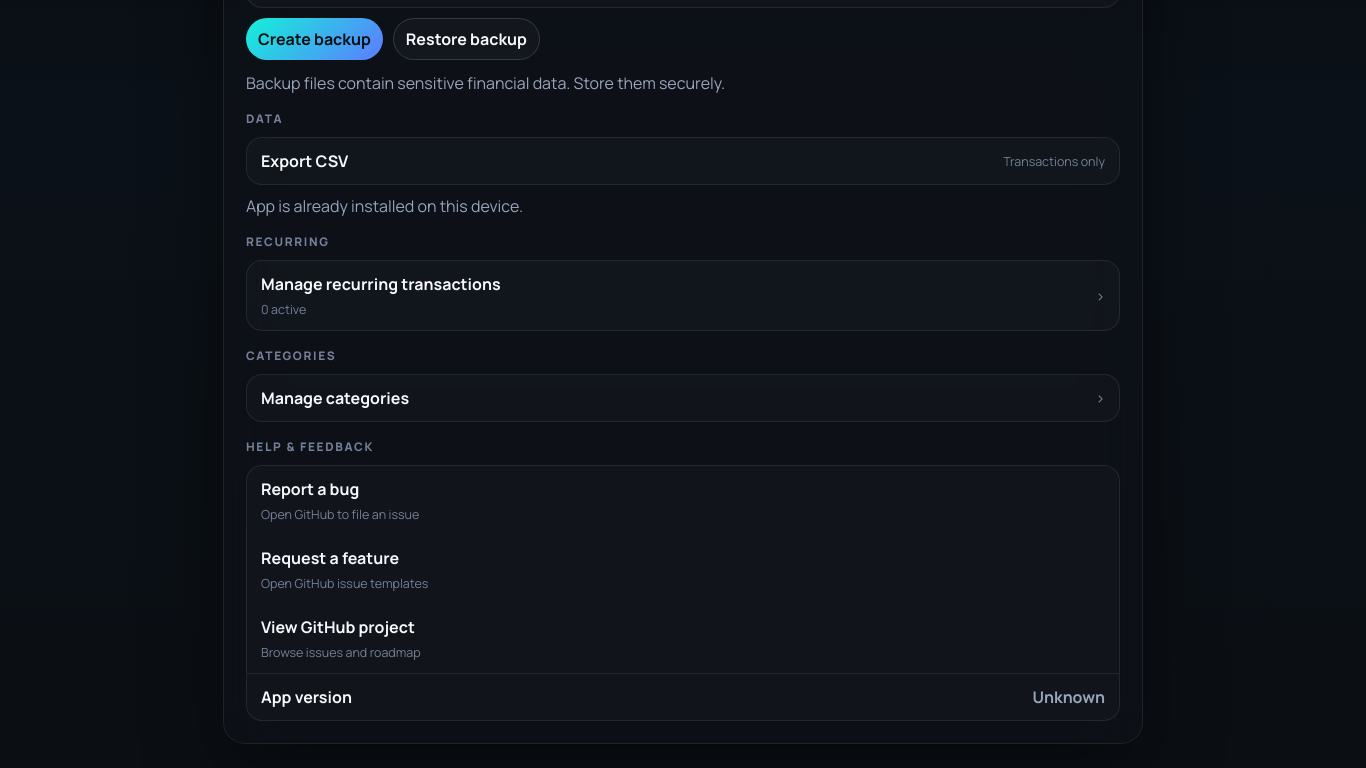
Test: SettingsScreen direct flows › keeps dialog usable when app version is missing
The width and height of the screenshot is (1366, 768).
(page scrolled)
Click the button "Report a bug Open GitHub to file an issue" at coordinates (310, 489), box [247,466,1119,535]
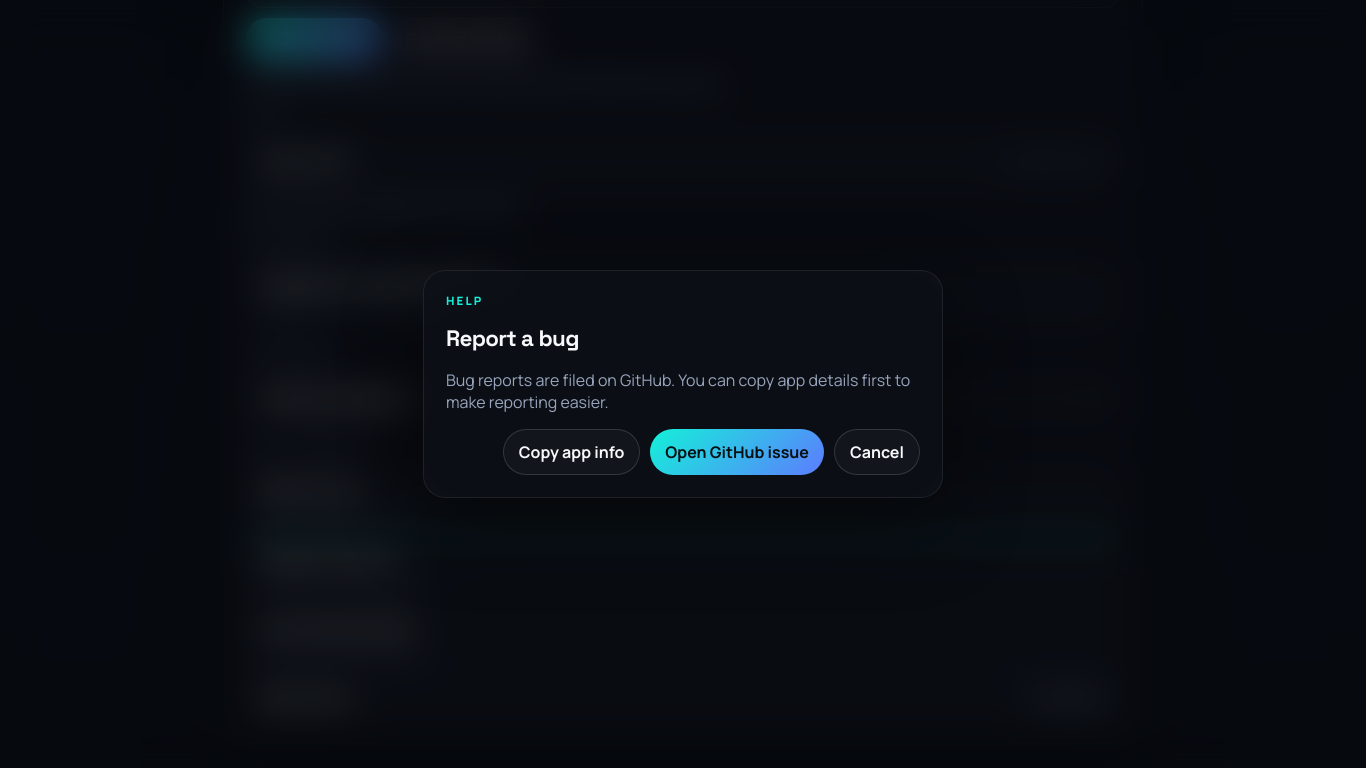
expect the button "Copy app info" is enabled: met, box [503,429,640,475]
expect the button "Open GitHub issue" is enabled: met, box [650,429,824,475]
